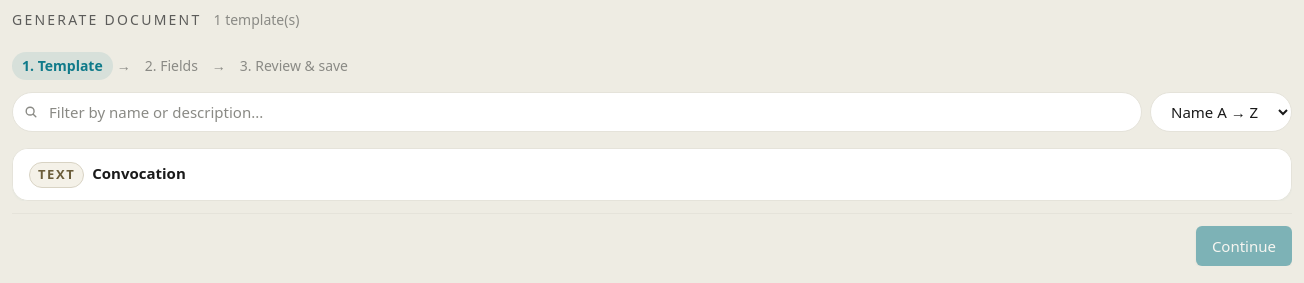
Test: GenerateDocumentPanel › requires template selection before building the draft
This screenshot has width=1304, height=283.
Check: the button "Continue" is disabled, box [1196,226,1292,266]
Click the button "TEXT Convocation". click: (57, 175)
box: [13,149,1291,200]
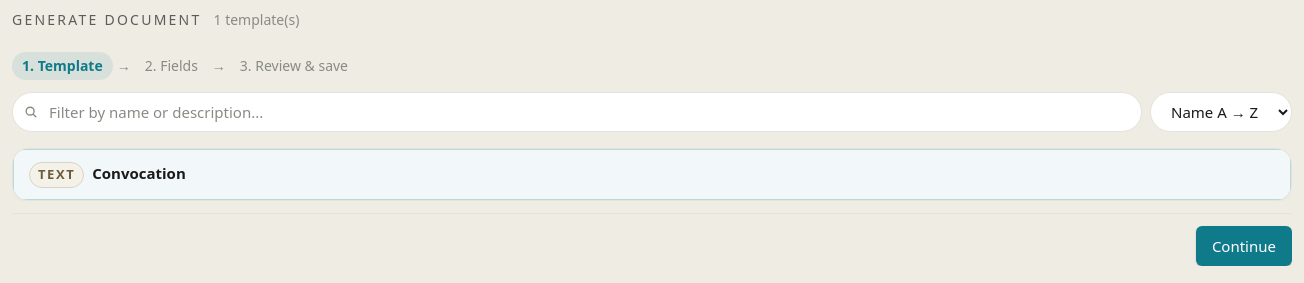
Check: the button "Continue" is enabled, box [1196,226,1292,266]
